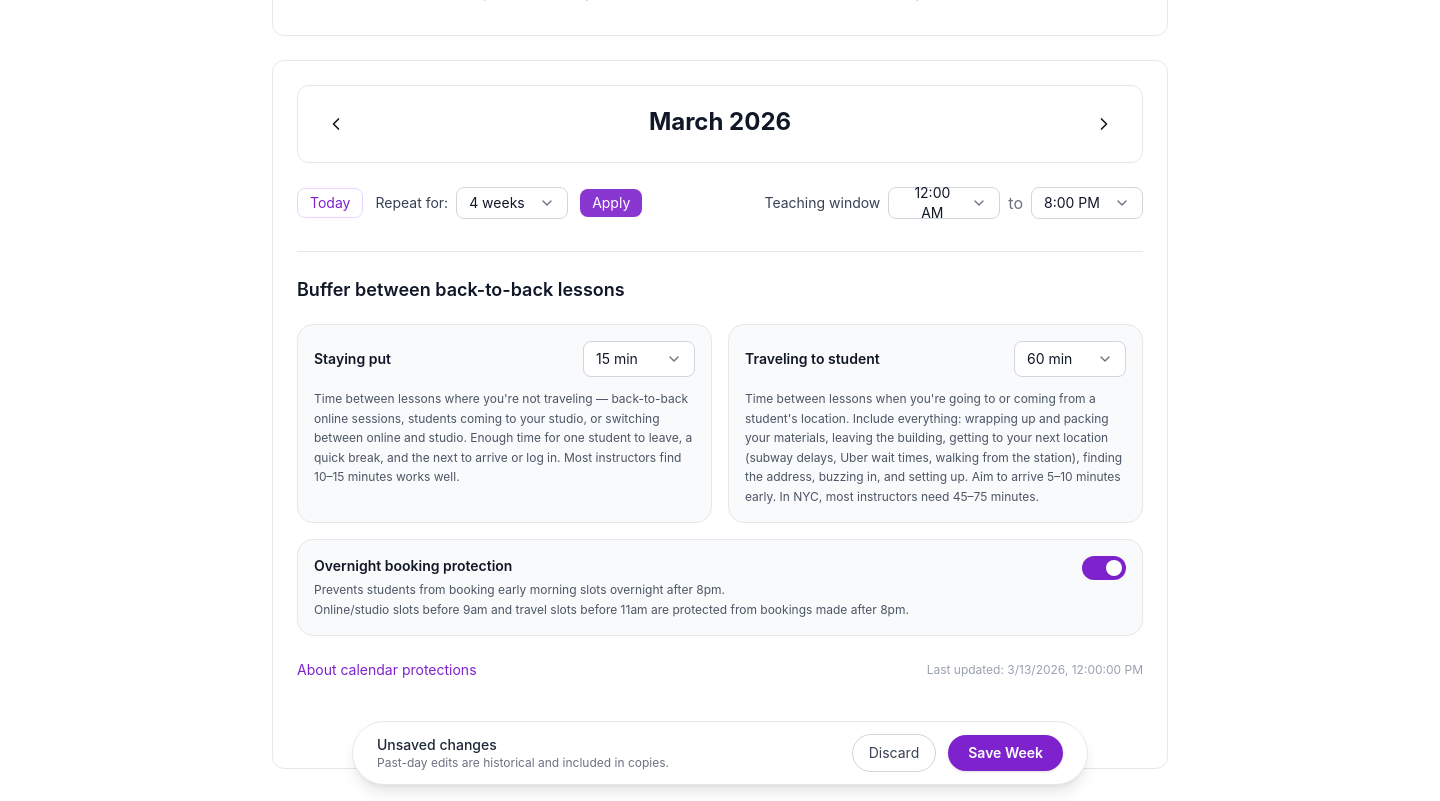
Test case: InstructorAvailabilityPage › opens the protections modal from the about link
The image size is (1440, 801).
(page scrolled)
Step 1. Click the button "About calendar protections" → (387,670), box [297,660,476,680]
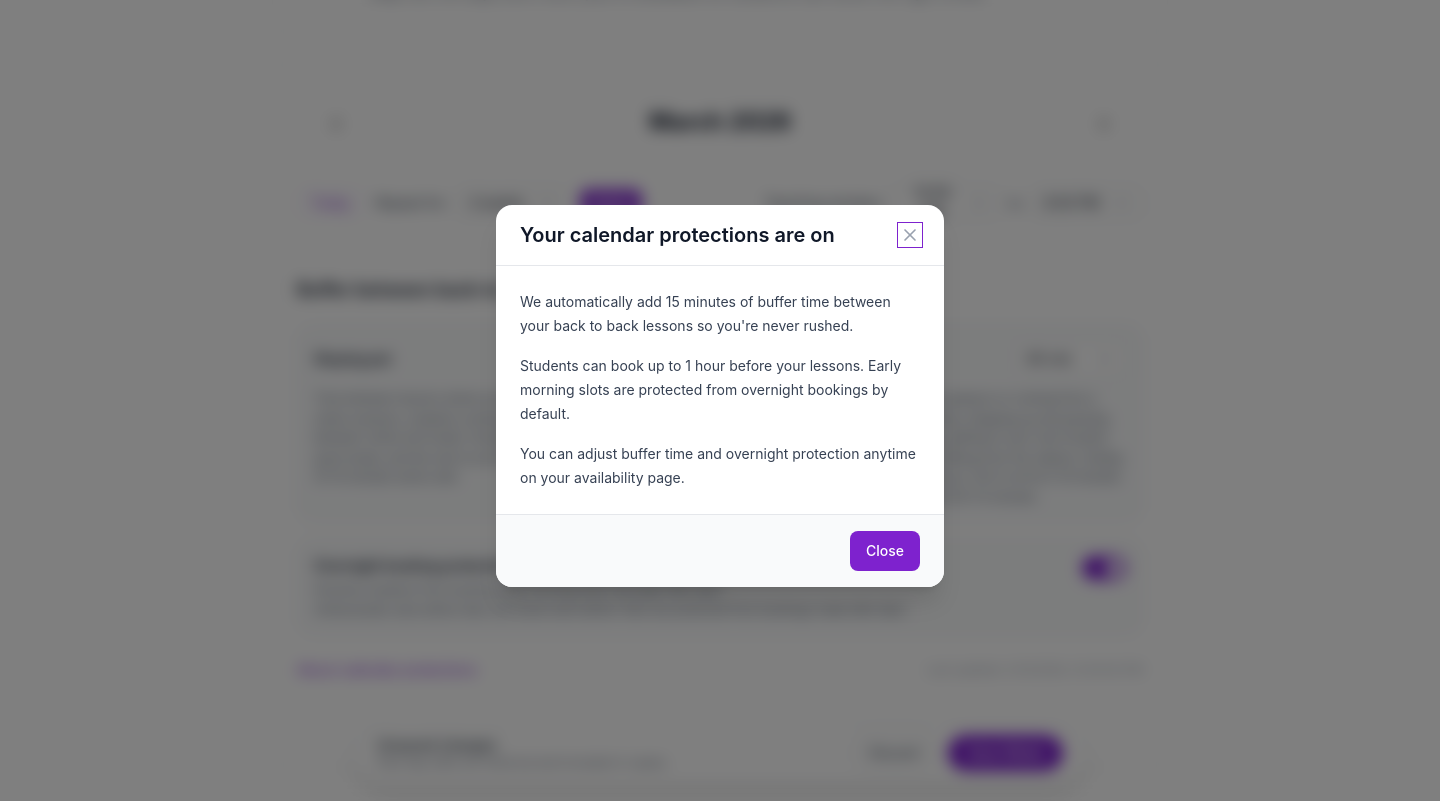
Result: the element with test id "calendar-settings-acknowledgement-modal" is shown at [520,290,920,490]
Result: the button "Close" is shown at [850,531,920,571]
